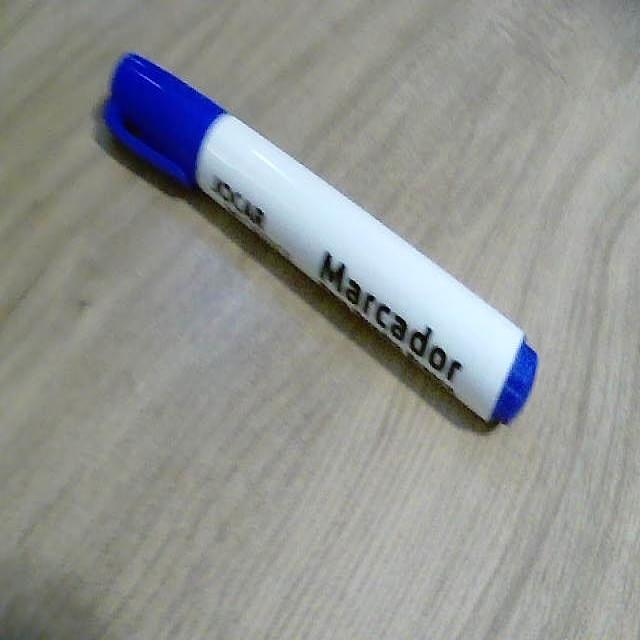caneta: (92, 16, 543, 460)
